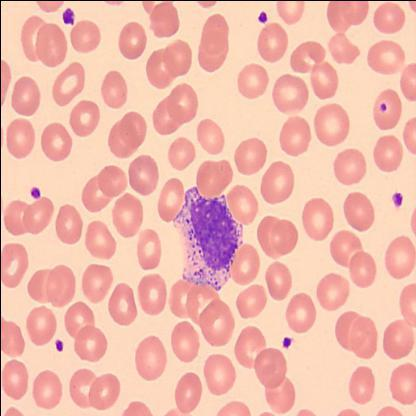Promyelocyte: (172, 185, 240, 287)
